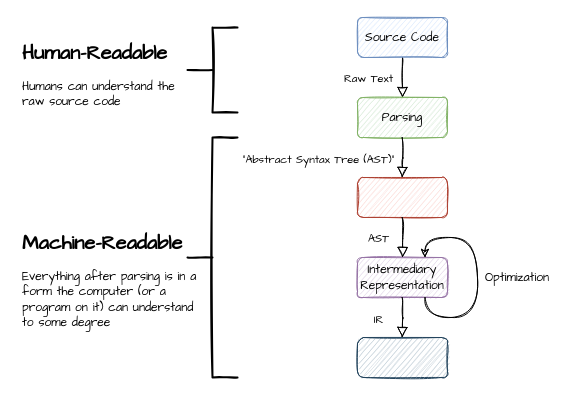
Some shapes in this 566 by 396 pixel diagram are drawn without their labels. Each missing label, with the centre of its shape:
Analysis: the point at 402,197
Machine Code: the point at 402,357
